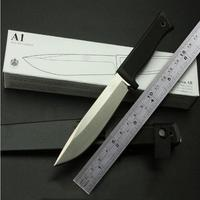knife: (52, 15, 166, 173)
